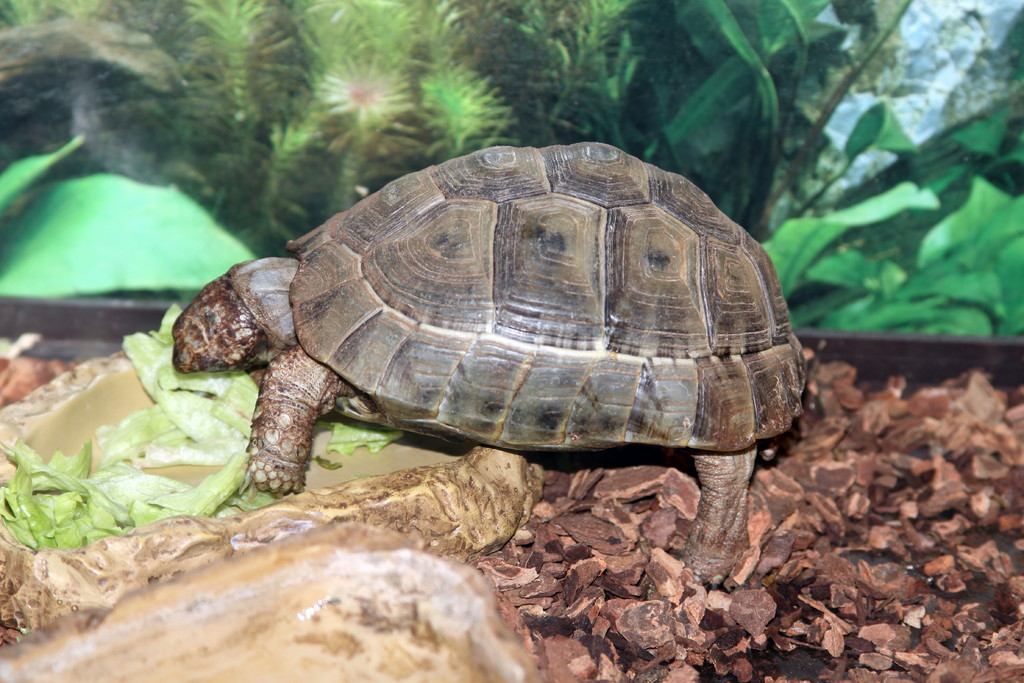Sea turtles: (163, 137, 807, 584)
